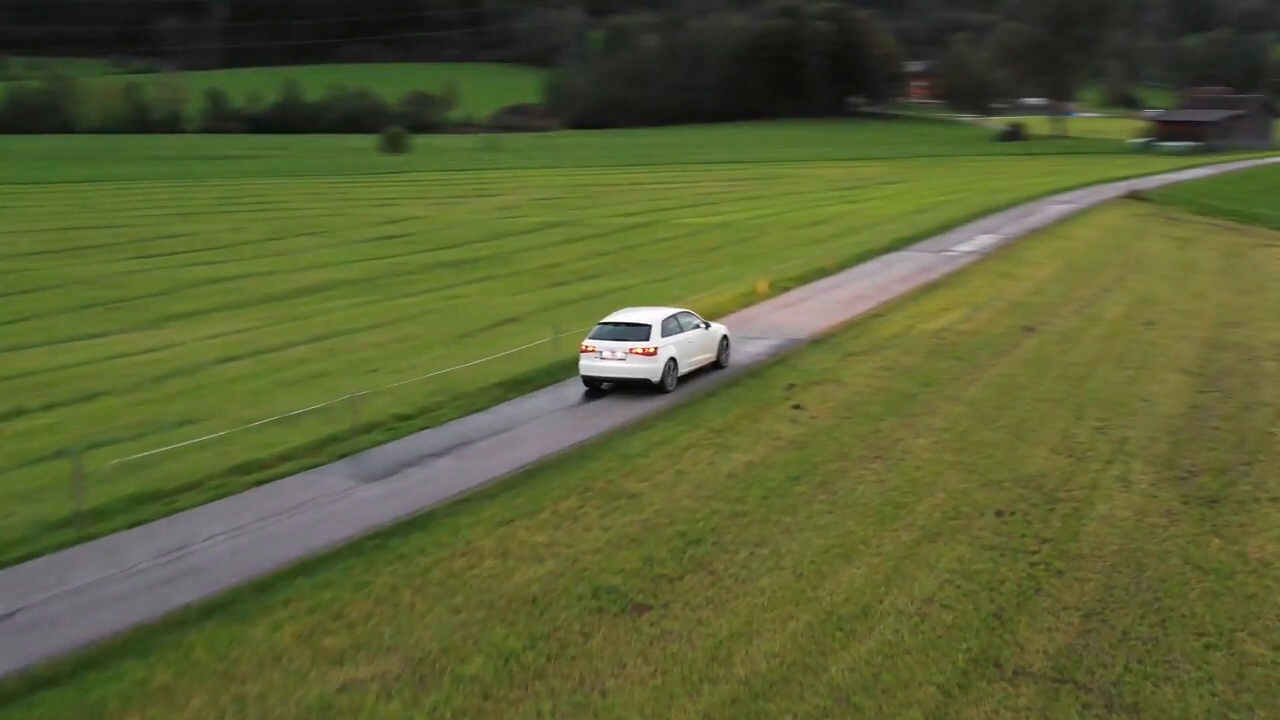araba: (580, 305, 732, 393)
